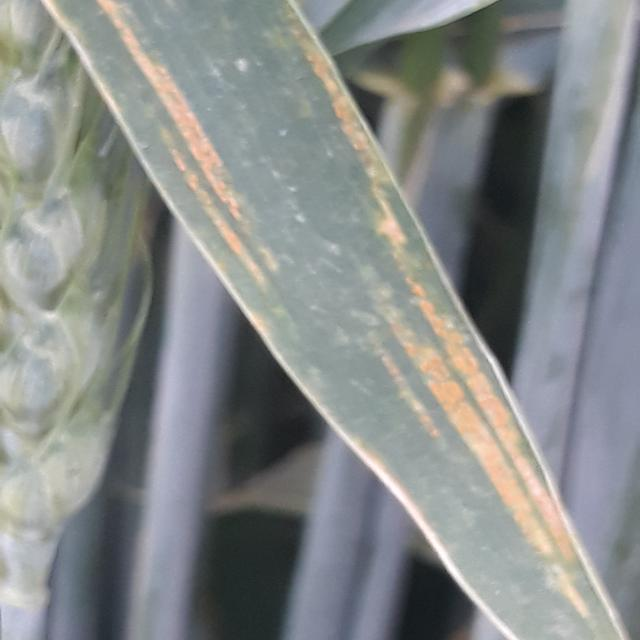yellow_rust: (31, 20, 618, 625)
